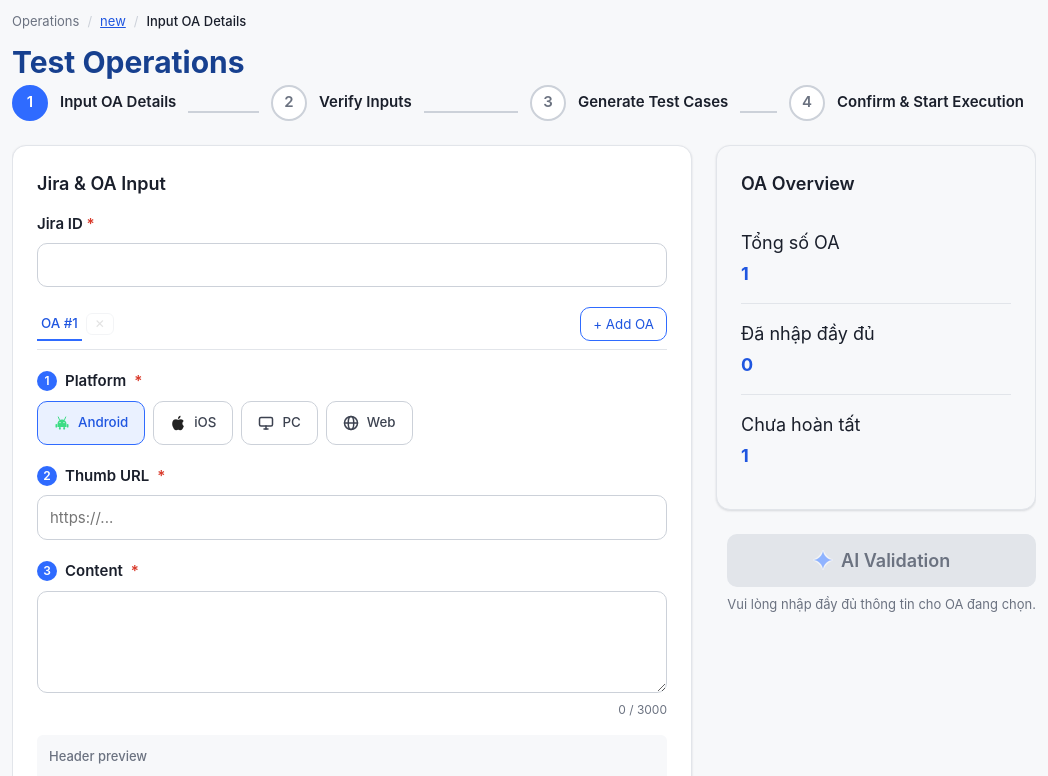
Test: InputScreen › removes an OA but never removes the last remaining one
This screenshot has width=1048, height=776.
Click the button "+ Add OA": (624, 324) [580, 307, 667, 341]
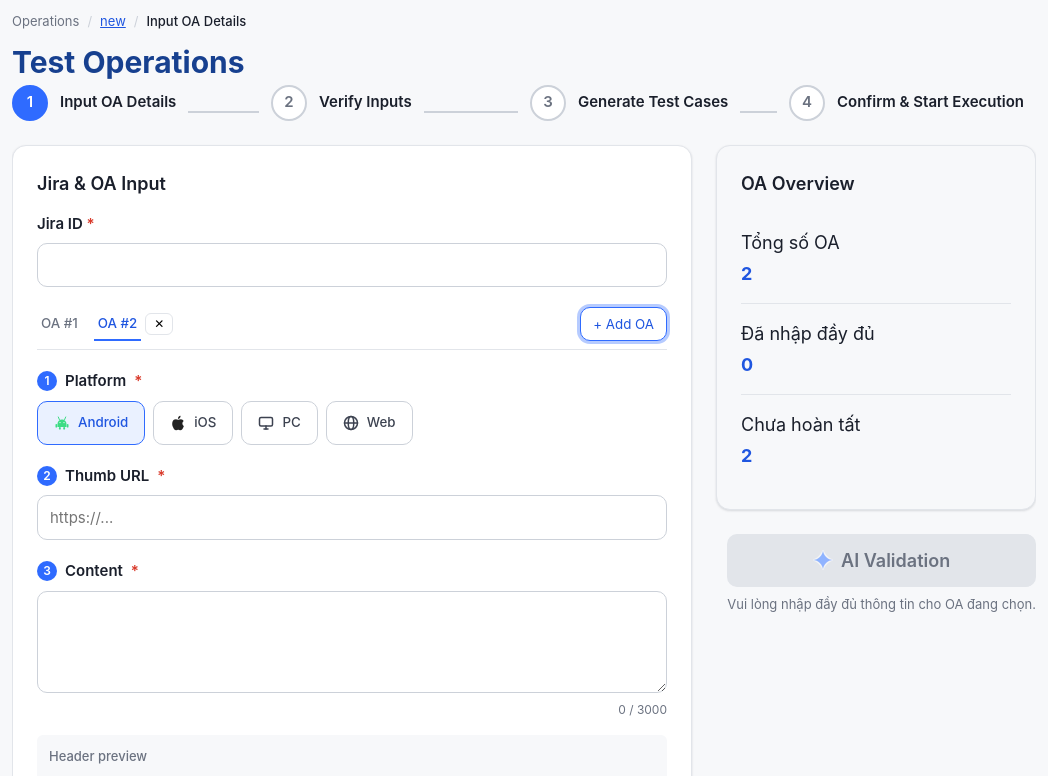
Expected: the tab "OA #2" is shown, [94, 307, 141, 341]
Click the button named "Remove OA #2": (159, 324) [145, 313, 173, 335]
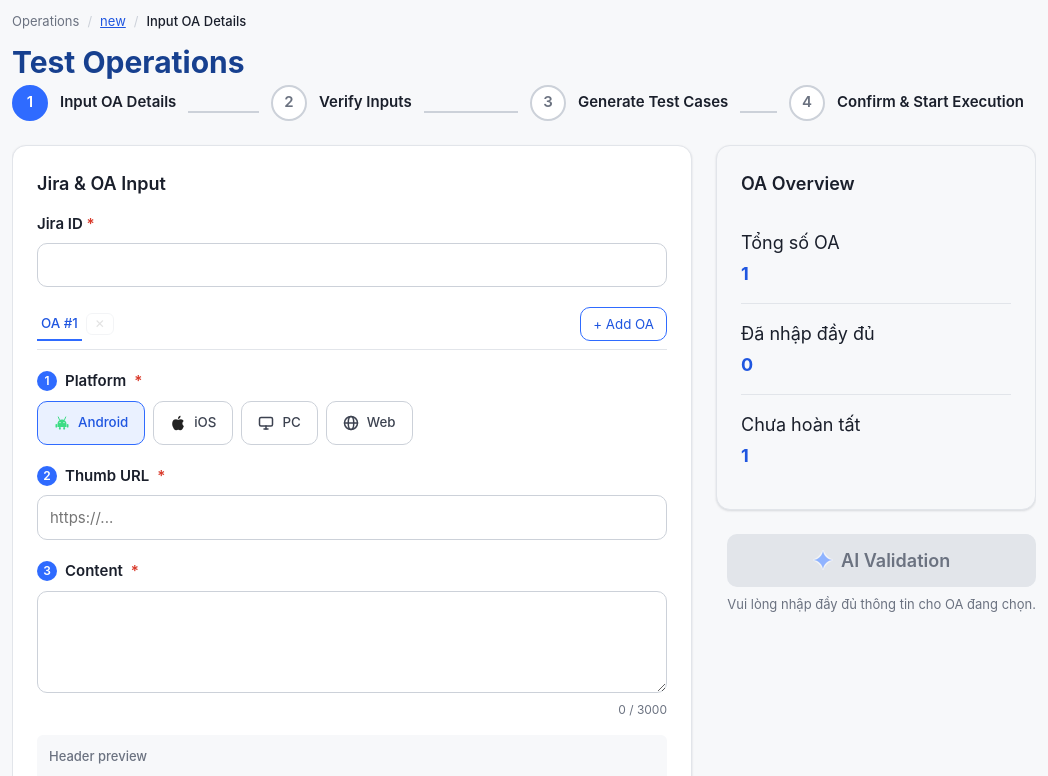
Expected: the tab "OA #2" is gone
Expected: the button named "Remove OA #1" is disabled, [86, 313, 114, 335]
